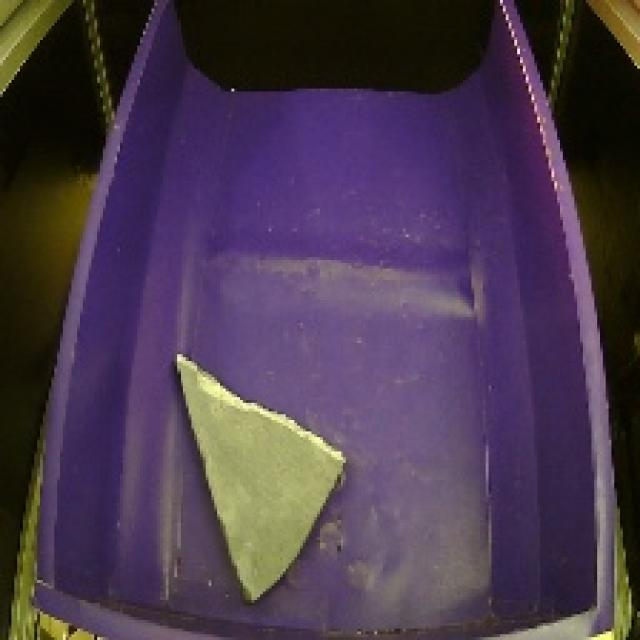china: (160, 343, 358, 610)
